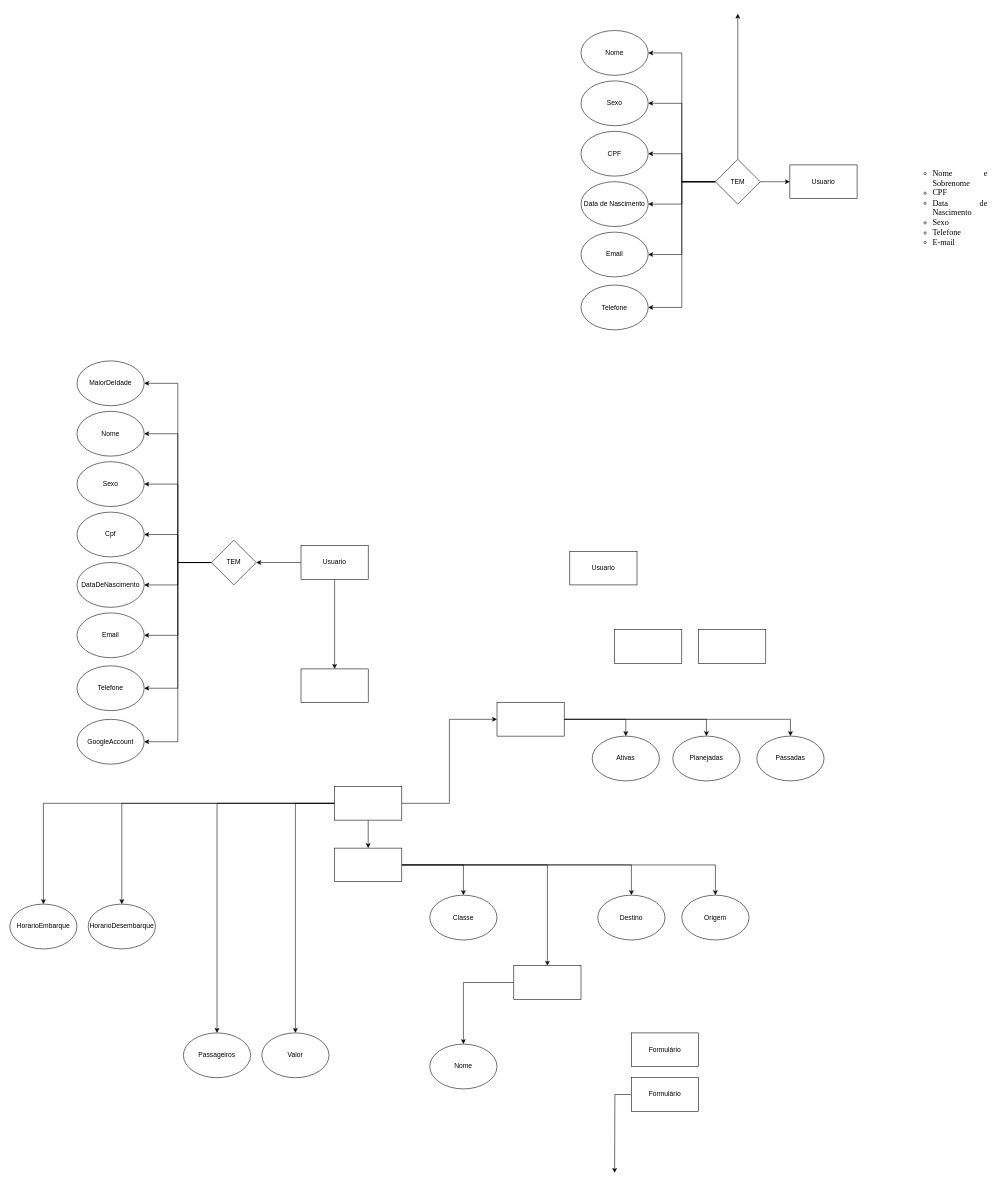
Image size: 998x1187. Some labels were removed from this diagram. The centre of each missing label's shape, as x and y in pixels:
"Companhia" goes at (x=547, y=982).
"Histórico de Compras" goes at (x=530, y=719).
"Passageiro" goes at (x=334, y=685).
"Passagem" goes at (x=368, y=803).
"Voos" goes at (x=368, y=865).
